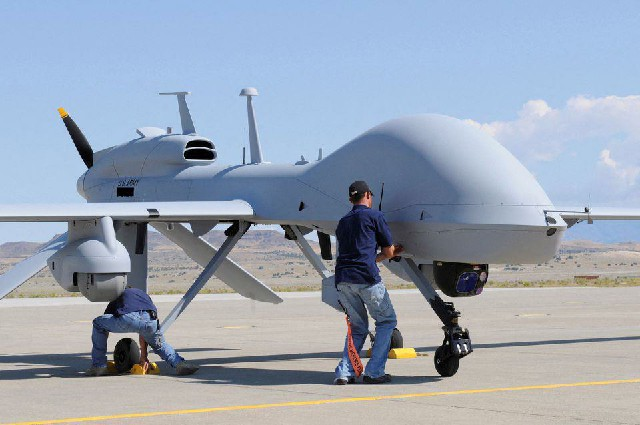maybay_khongnguoilai: (9, 98, 639, 367)
